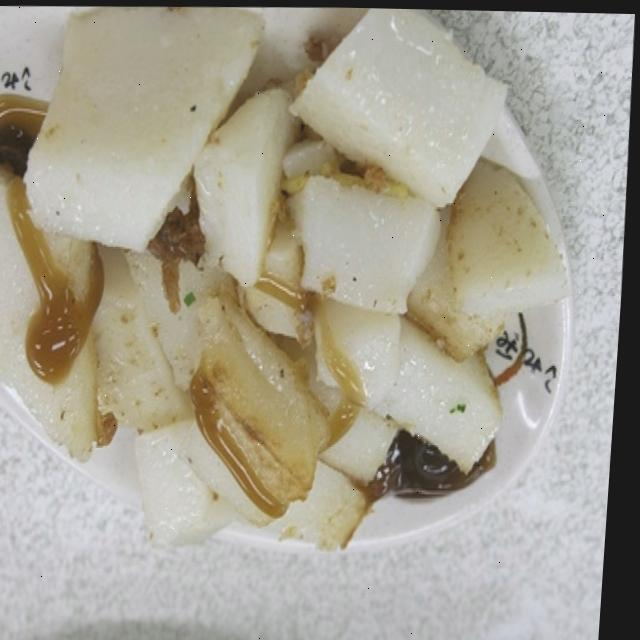蛋糕甜品: (0, 12, 597, 592)
